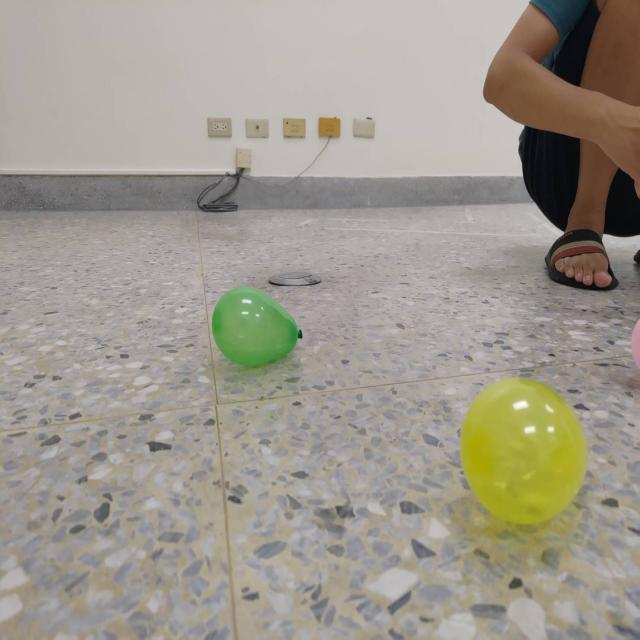other: (460, 377, 588, 527), (210, 284, 303, 368), (630, 316, 640, 366)
